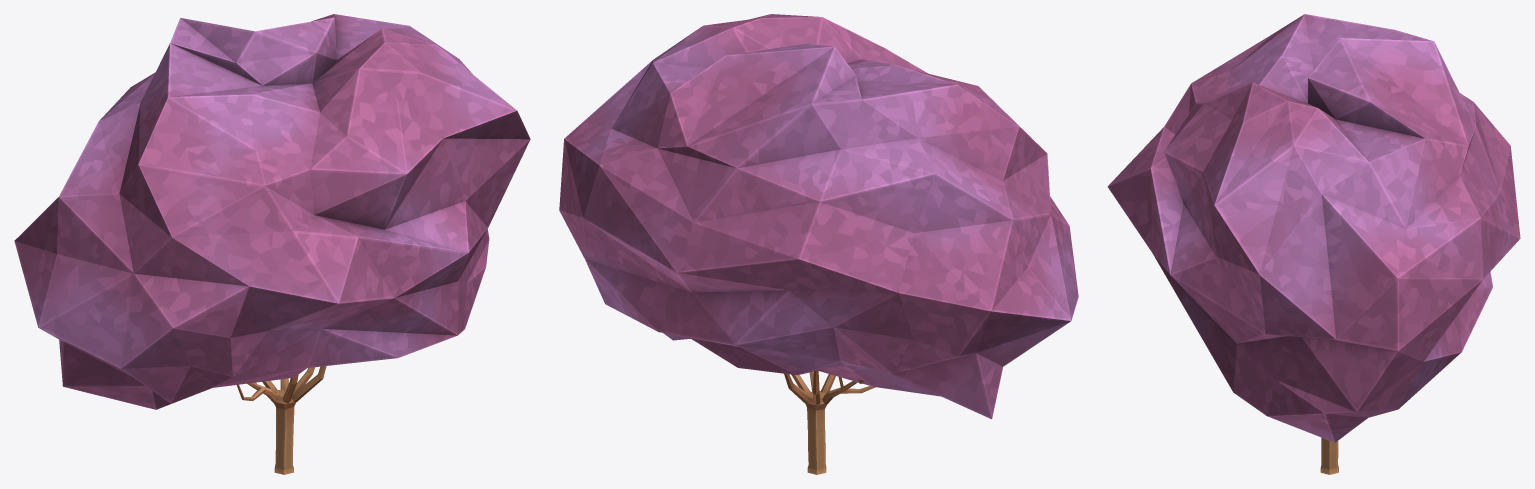
File: 9deb3271-411a-476b-a01b-e82e27077e72.glb
3 renders of one model, left to right at view 1: azimuth 30°, elevation 25°; view 2: azimuth 150°, elevation 25°; view 3: azimuth 270°, elevation 25°, orthographic. The views are drawn at different scales.
Visible parts, largest first — view 1: CherryTree_mesh; view 2: CherryTree_mesh; view 3: CherryTree_mesh.
Part boxes in pixels (box(x1,y1,x2,y2)): CherryTree_mesh: box(14, 14, 530, 474); CherryTree_mesh: box(559, 14, 1078, 474); CherryTree_mesh: box(1107, 14, 1520, 474).
Bounding box in the file's own units: 14.98 × 13.18 × 11.71.
Materials: 1 (1 with a texture image).
